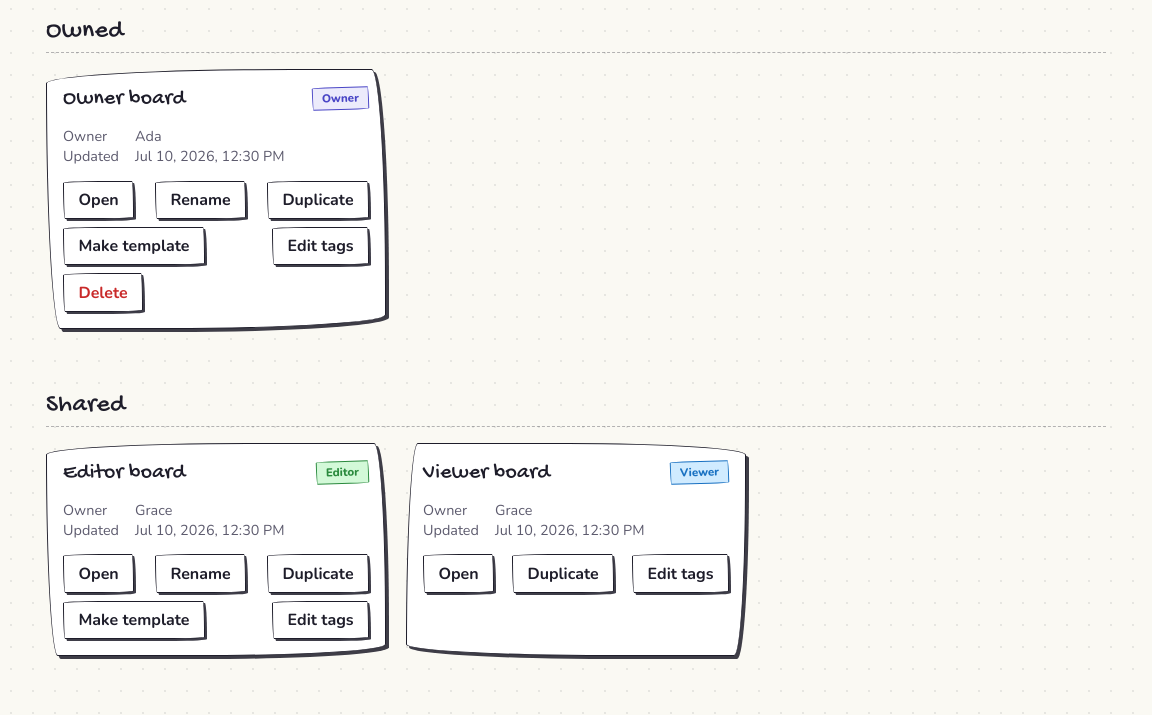
Test case: DashboardPage › allows owner and editor rename controls but only owner deletion
The width and height of the screenshot is (1152, 715).
(page scrolled)
Expected: the button "Rename" below "Ada" is shown, [155, 181, 246, 219]
Expected: the button "Delete" is shown, [63, 273, 143, 312]
Click the button "Rename" below "Editor board".
click(200, 574)  # box [155, 554, 246, 593]
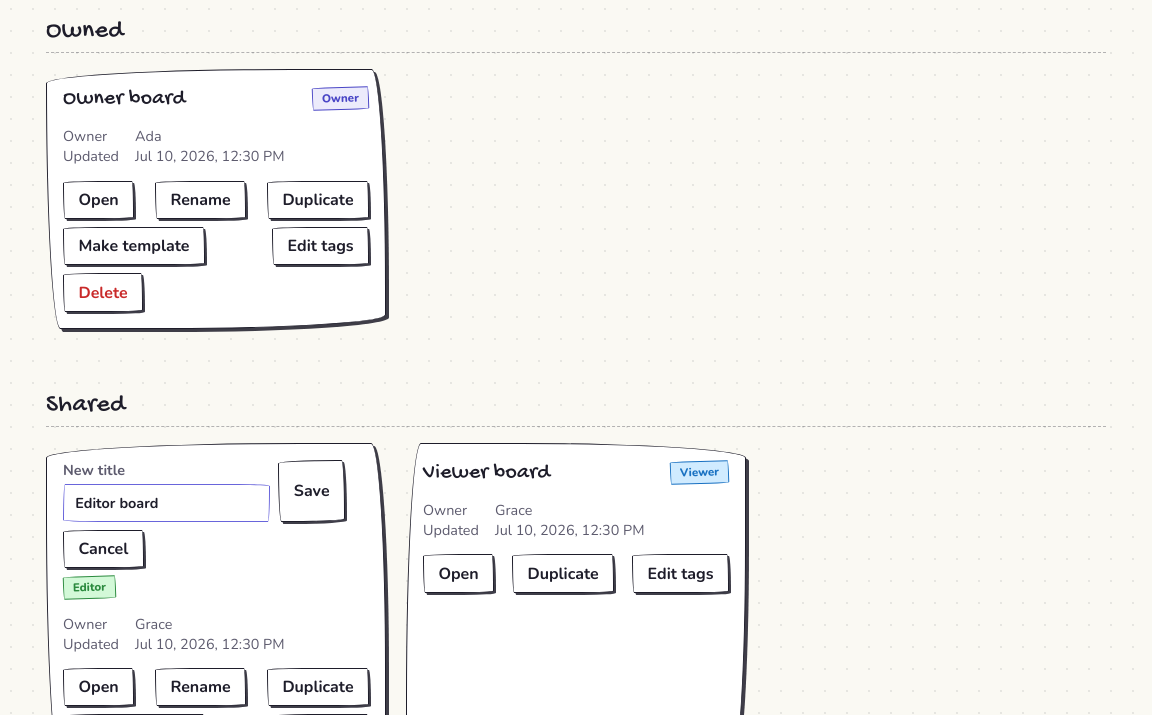
Replace the text in the field labelled "New title" with "Edited API design" at (167, 503), box [63, 484, 270, 522]
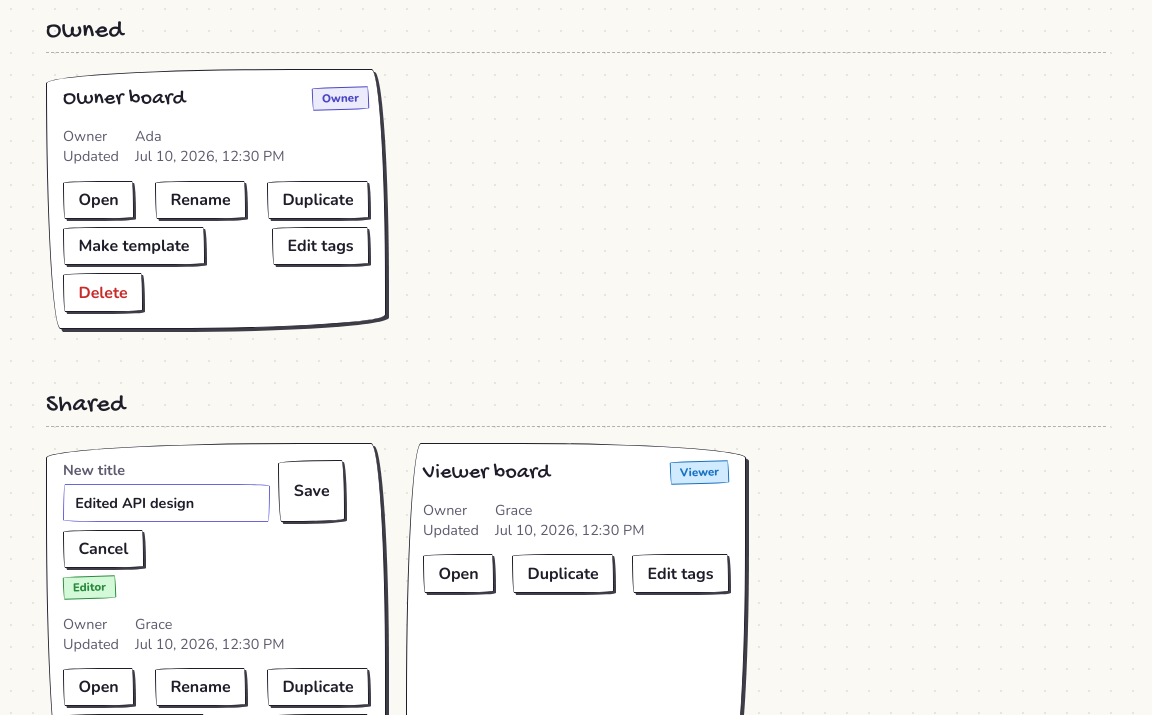
Click the button "Save".
click(312, 491)  # box [278, 460, 345, 522]
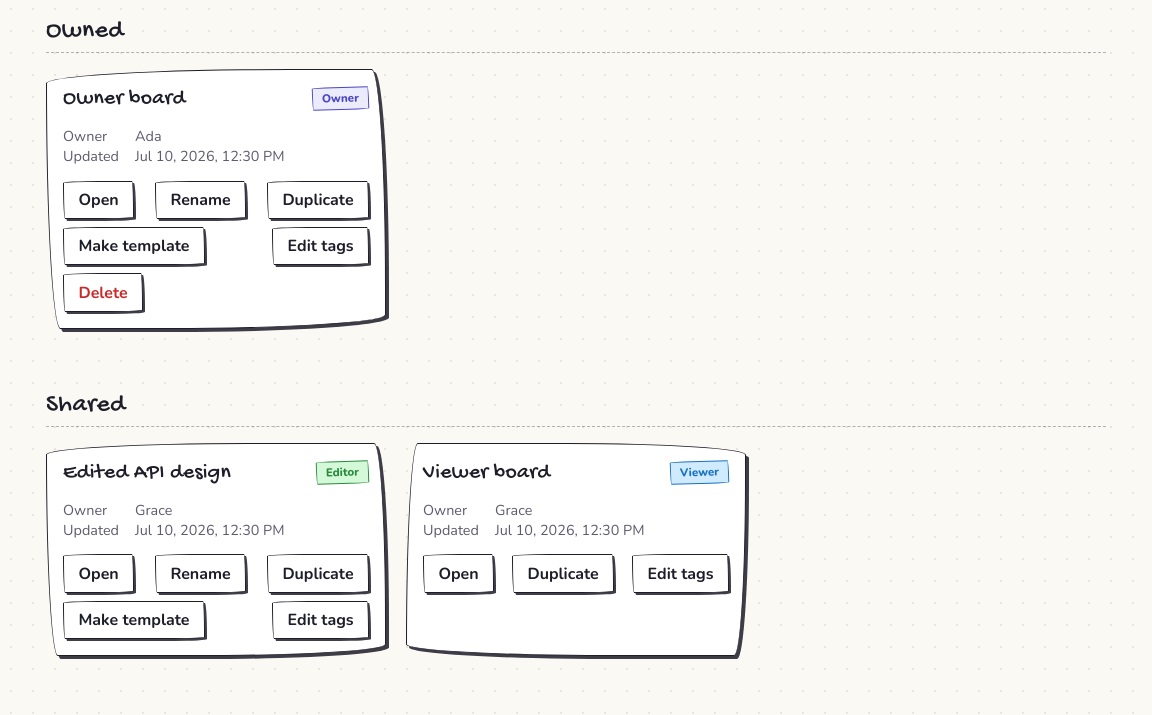
Expected: the heading "Edited API design" is shown, [63, 460, 231, 486]
